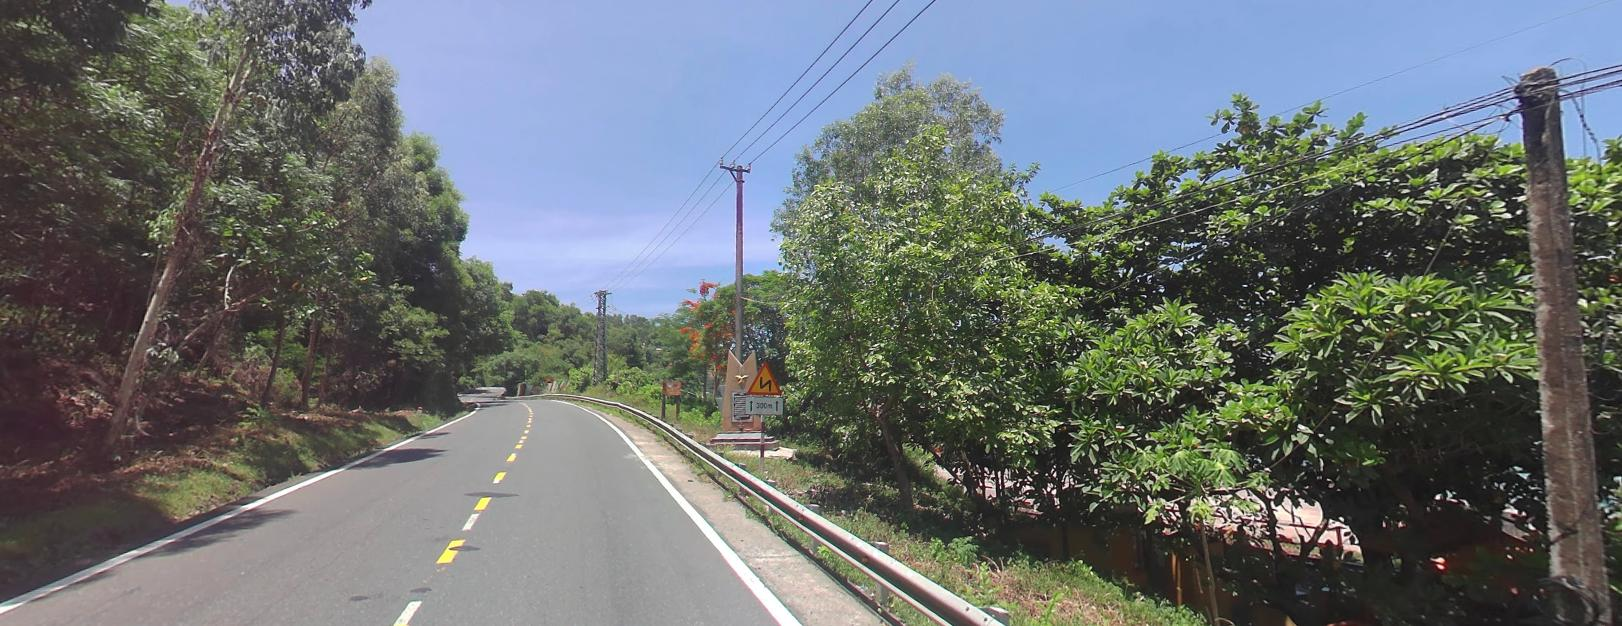Nguy hiem: (740, 359, 784, 394)
